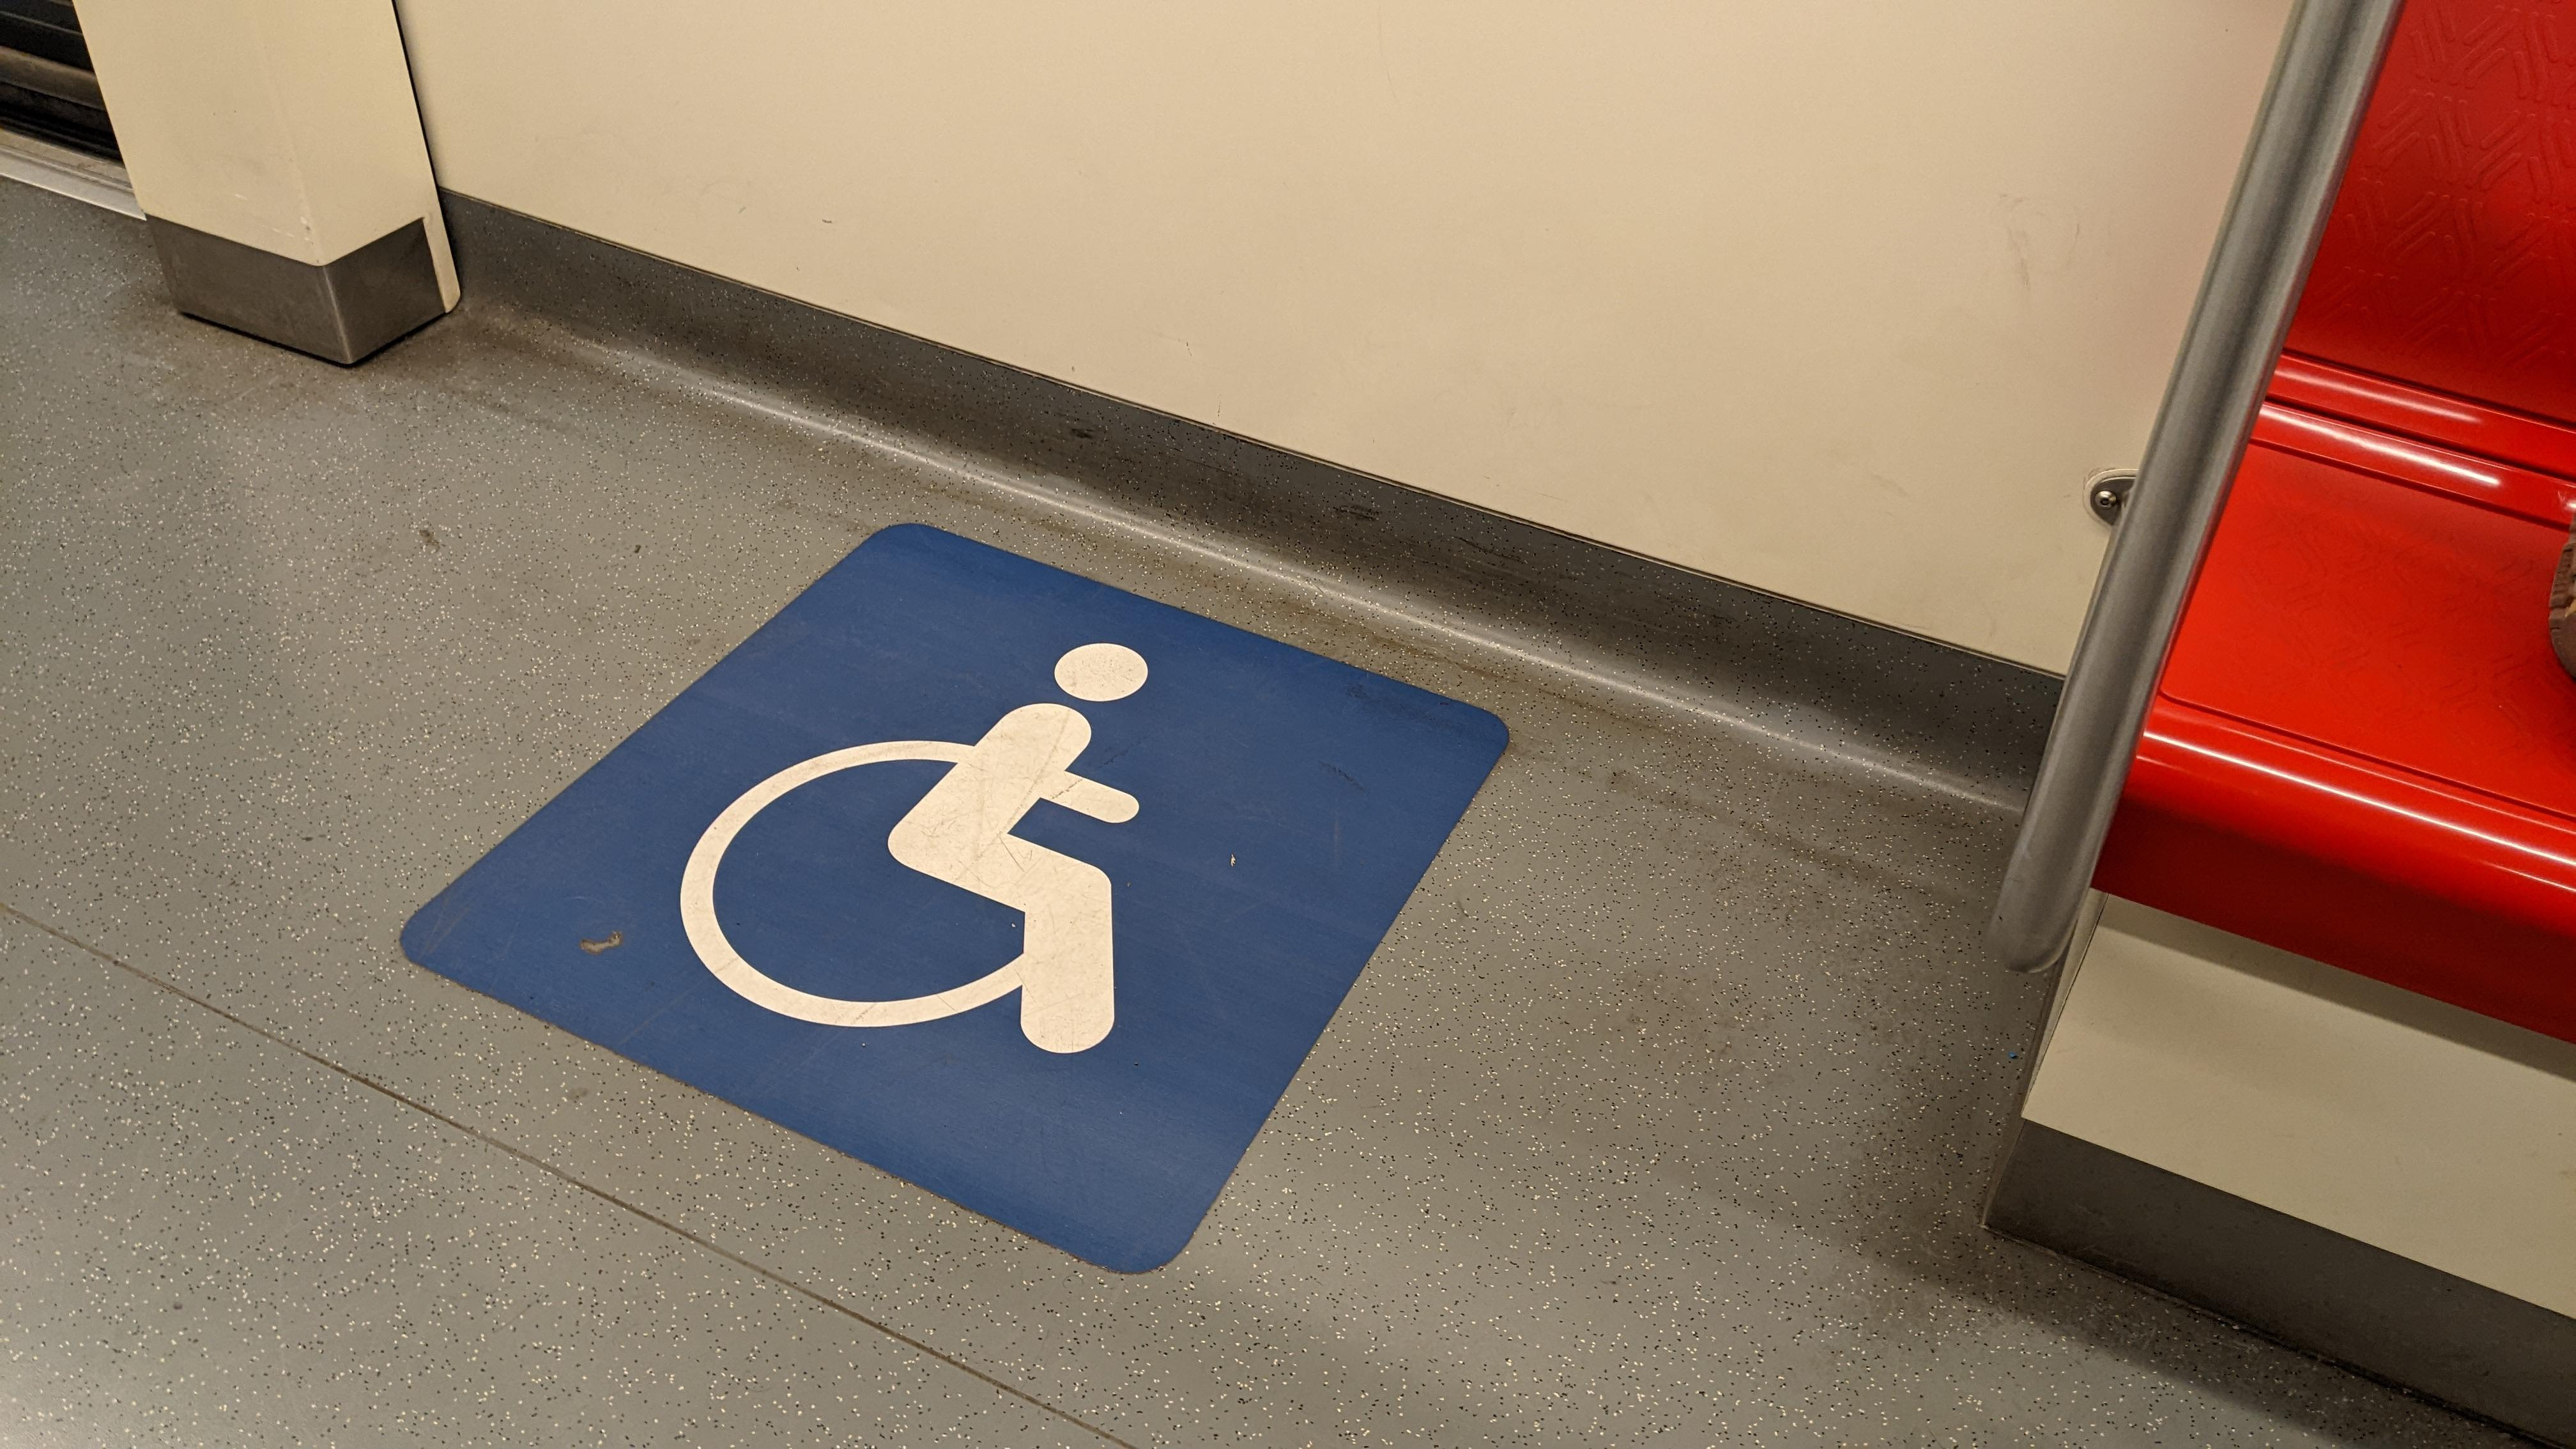handicapped symbol: (678, 635, 1168, 1060)
